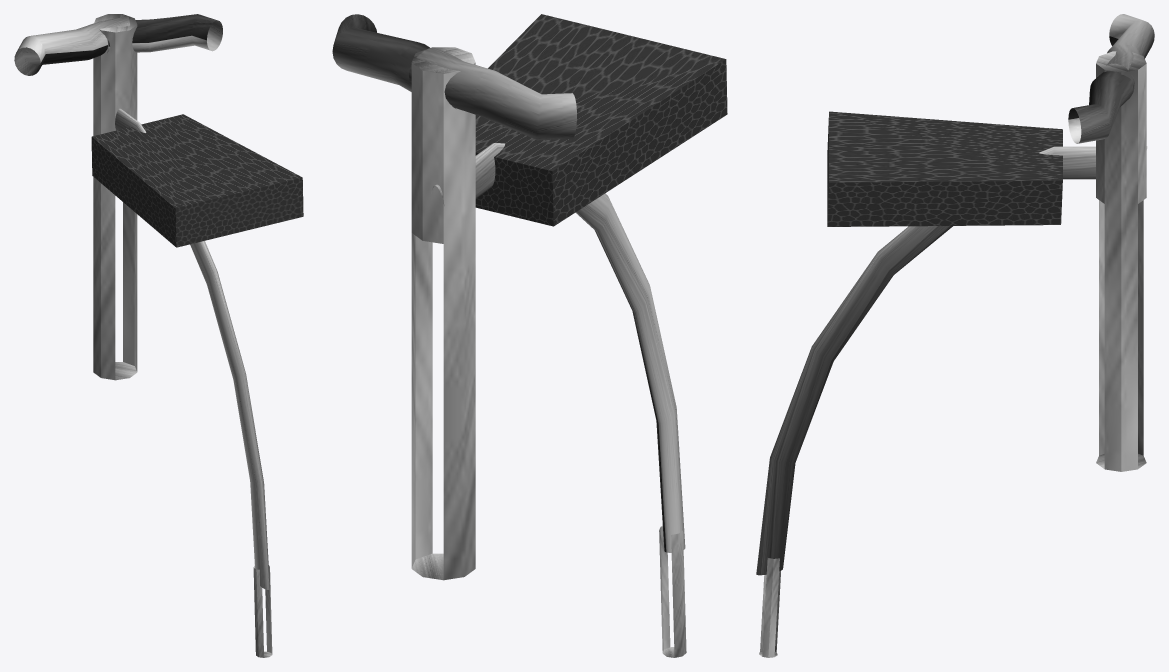
File: Bikebody.fbx
3 renders of one model, left to right at view 1: azimuth 30°, elevation 25°; view 2: azimuth 150°, elevation 25°; view 3: azimuth 270°, elevation 25°, orthographic. The views are drawn at different scales.
Visible parts, largest first — view 1: pCube2, pCylinder5, pTorus4, pTorus5, pTorus2, pCylinder4; view 2: pCube2, pCylinder5, pTorus4, pTorus5, pTorus2, pCylinder4; view 3: pCube2, pCylinder5, pTorus4, pTorus2, pTorus5, pCylinder4.
Part boxes in pixels (x1,y1,x2,y2): pCube2: (91,114,303,247); pCylinder5: (93,14,137,380); pTorus4: (115,108,269,589); pTorus5: (14,16,130,75); pTorus2: (107,14,222,52); pCylinder4: (253,565,272,657); pCube2: (475,14,727,226); pCylinder5: (411,47,475,580); pTorus4: (431,143,685,552); pTorus5: (409,47,576,140); pTorus2: (332,14,455,108); pCylinder4: (659,526,686,657); pCube2: (827,111,1062,226); pCylinder5: (1096,51,1146,471); pTorus4: (756,146,1147,575); pTorus2: (1068,71,1134,143); pTorus5: (1106,14,1154,88); pCylinder4: (759,558,780,657).
Size of the model in its own units: 5.74 by 15.38 by 9.26.
